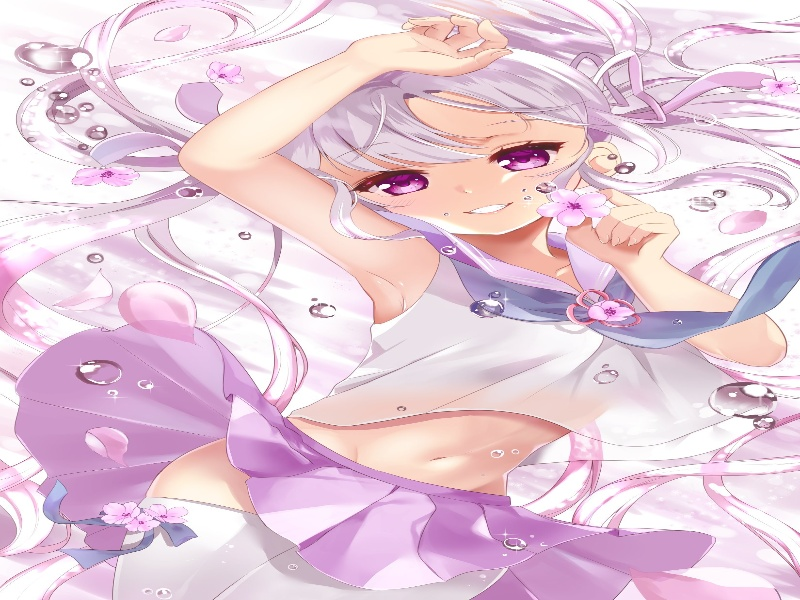person: (333, 96, 609, 259)
